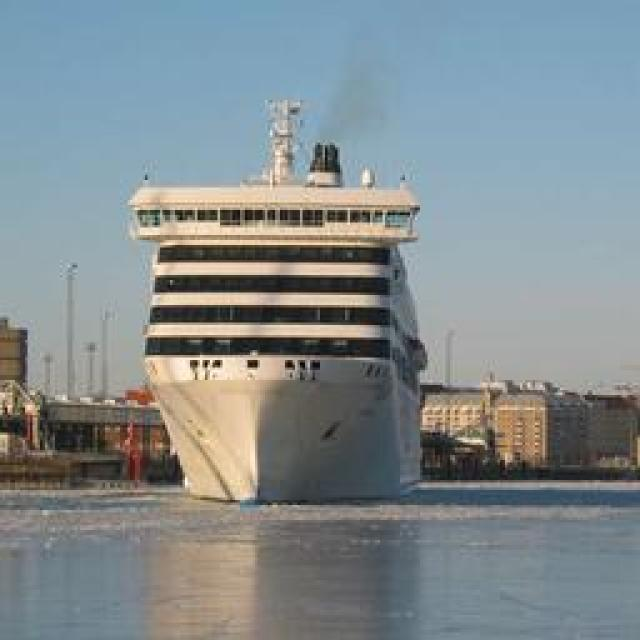CIV_Ship: (138, 165, 432, 505)
